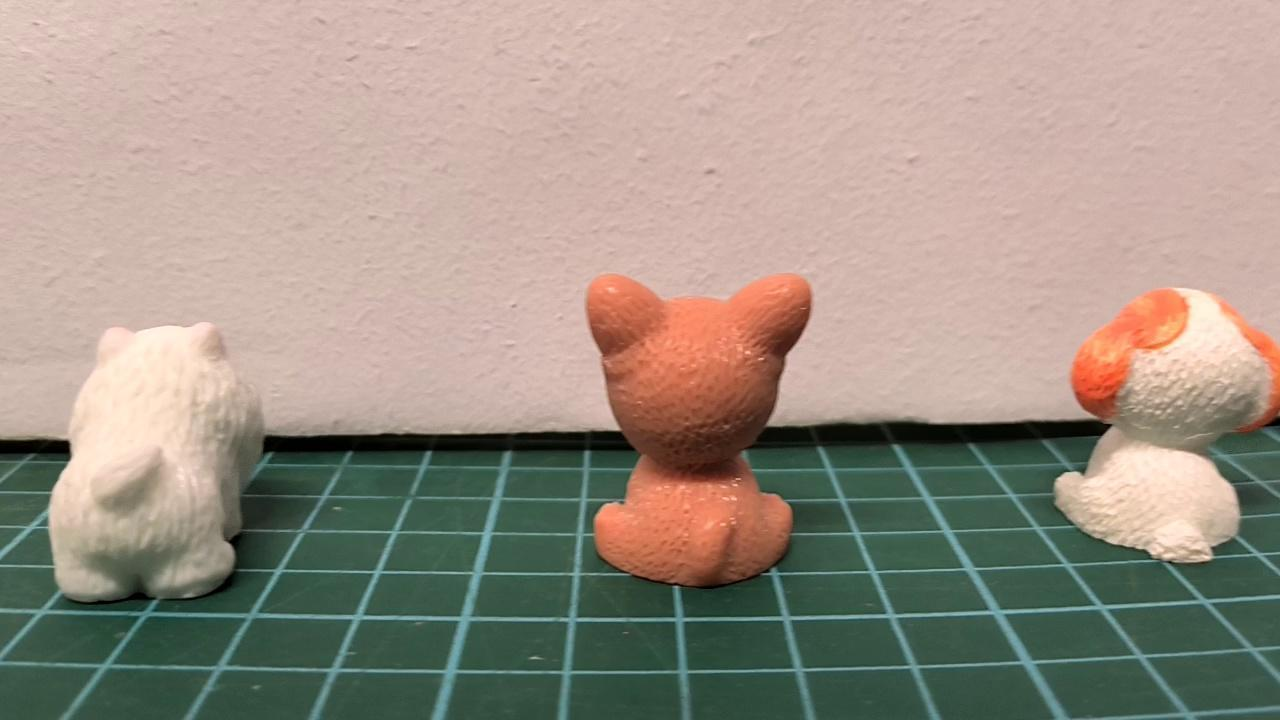pet: (588, 277, 814, 587), (1053, 286, 1280, 563), (46, 321, 265, 602)
